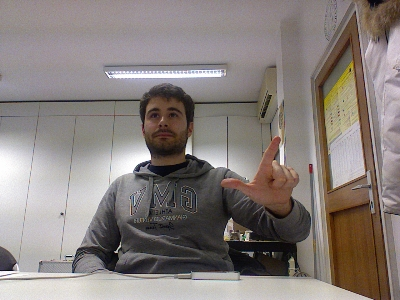枪: (219, 133, 299, 205)
